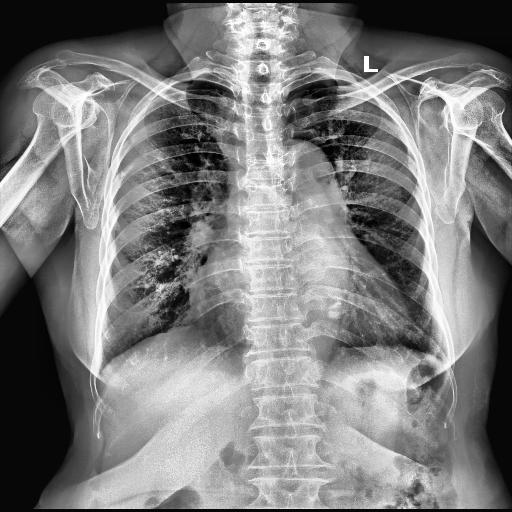0- Aortic enlargement: (258, 136, 344, 203), (270, 139, 338, 202), (279, 140, 340, 208)
3- Cardiomegaly: (185, 258, 414, 342), (182, 274, 413, 352), (188, 282, 408, 358)
